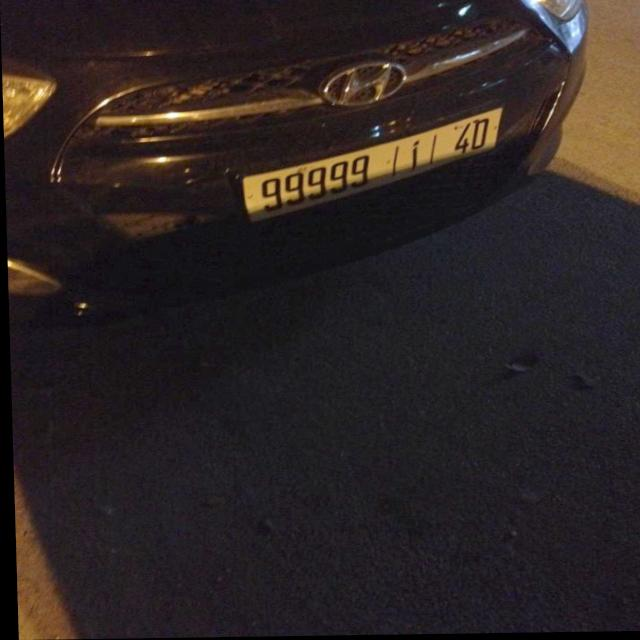License-Plate: (241, 111, 501, 220)
